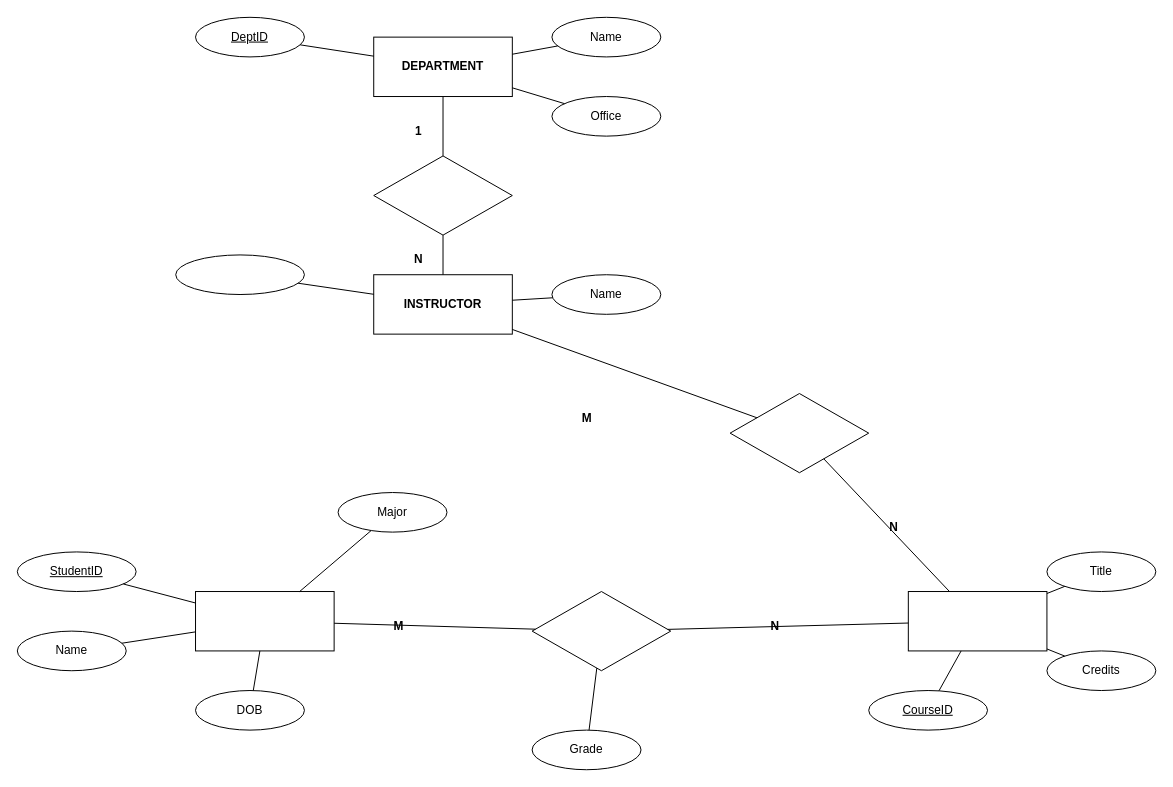
Image size: 1173x787. Some labels were removed from this diagram. Each missing label, with the box of its shape:
COURSE: (907, 591, 1047, 651)
ENROLLS: (531, 591, 671, 671)
HAS: (373, 155, 512, 235)
InstructorID: (175, 254, 304, 295)
STUDENT: (195, 591, 334, 651)
TEACHES: (729, 393, 869, 473)
